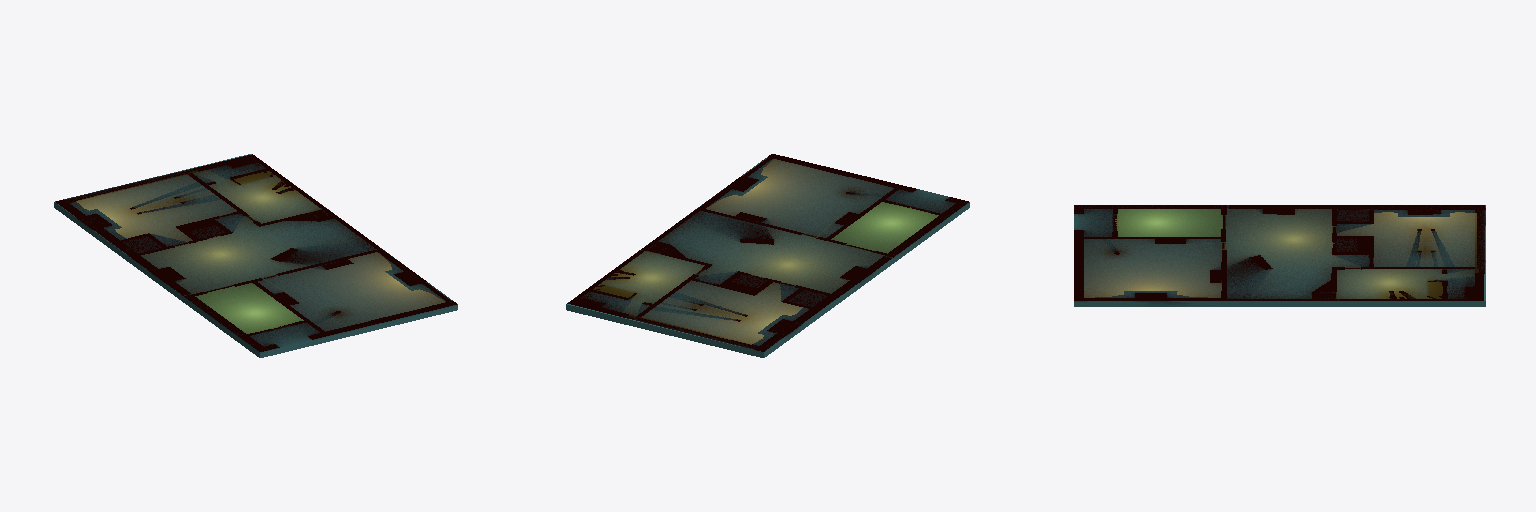
3 renders of one model, left to right at view 1: azimuth 30°, elevation 25°; view 2: azimuth 150°, elevation 25°; view 3: azimuth 270°, elevation 25°, orthographic.
Visible parts, largest first — view 1: Floor.002_Cube.159; view 2: Floor.002_Cube.159; view 3: Floor.002_Cube.159.
Boxes of the visible parts, x1=… form: Floor.002_Cube.159: x1=54, y1=154, x2=457, y2=357; Floor.002_Cube.159: x1=566, y1=154, x2=969, y2=357; Floor.002_Cube.159: x1=1074, y1=205, x2=1485, y2=306.
Bounding box in the file's own units: 7.74 × 0.2268 × 13.95.
Materials: 1 (1 with a texture image).